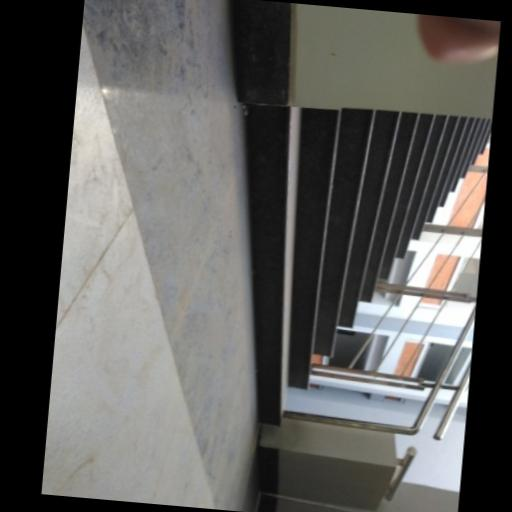stairs: (247, 107, 490, 423)
